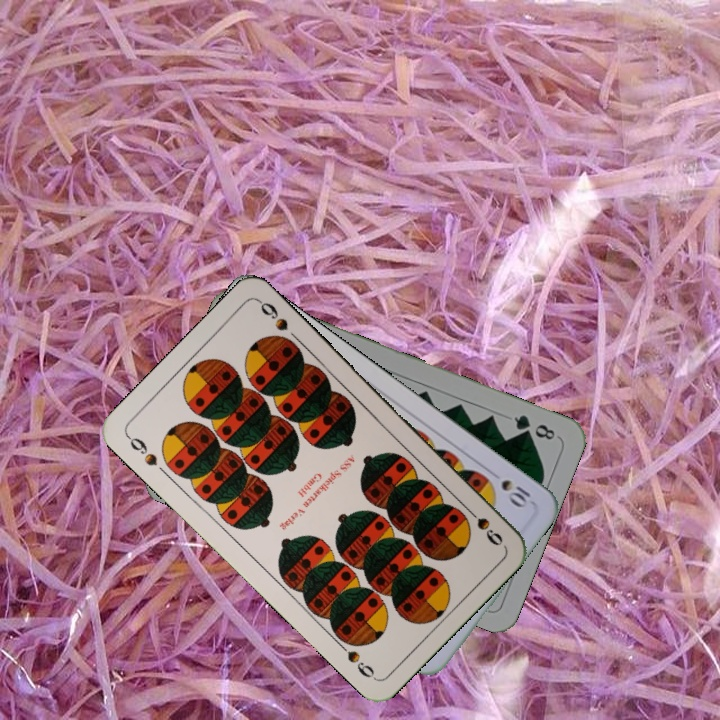G8: (509, 410, 558, 443)
S10: (496, 475, 536, 511)
S9: (460, 501, 506, 549), (122, 431, 161, 469)
